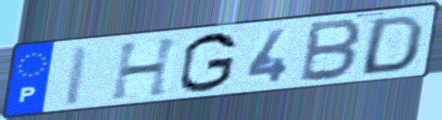4: (243, 26, 291, 85)
B: (296, 16, 366, 84)
D: (356, 13, 428, 77)
G: (176, 30, 240, 95)
H: (108, 34, 184, 102)
I: (60, 43, 94, 108)
